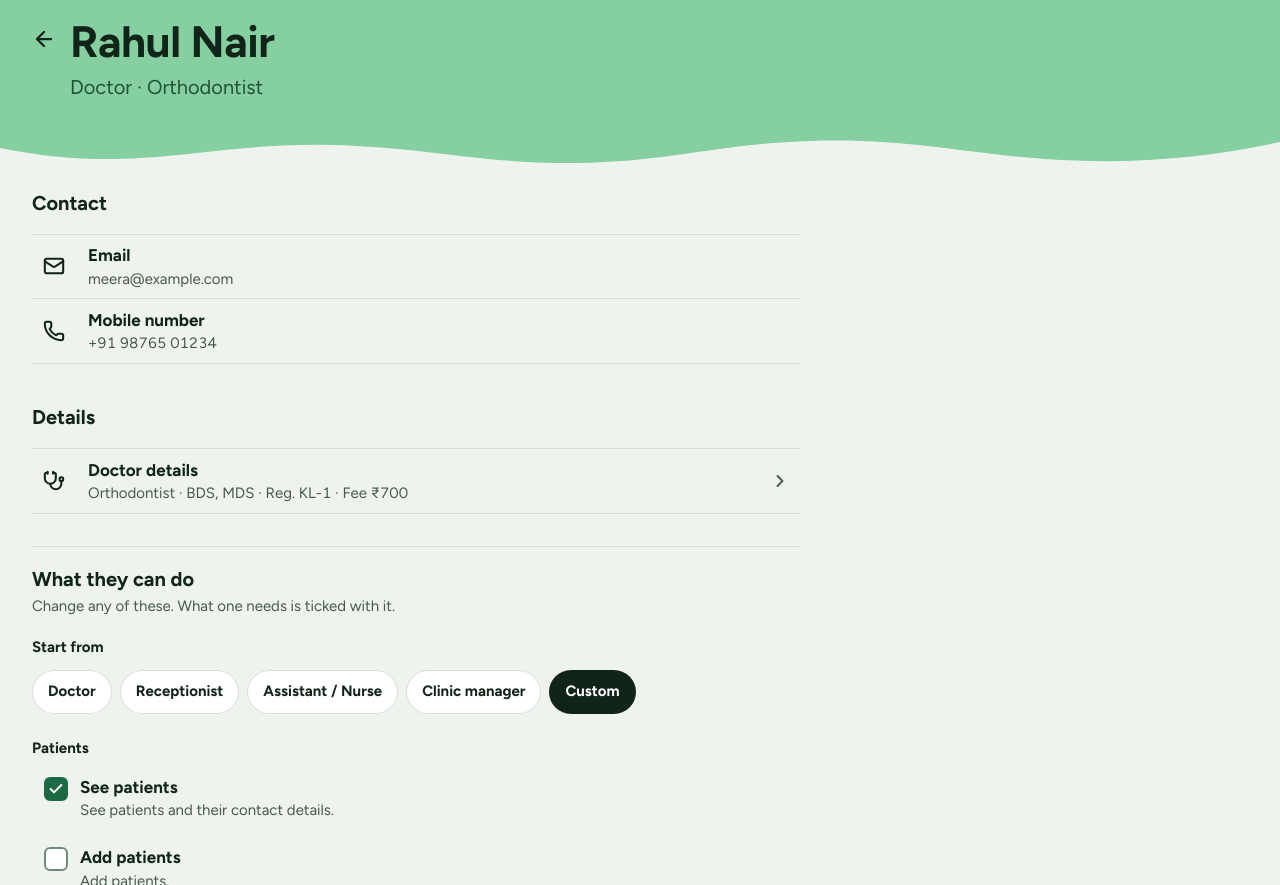
Scenario: Member (plan §8.6, D94) › says why access or a deactivation could not be saved
Click the checkbox labelled "Add patients".
click(56, 859)  # box [44,847,68,871]
(page scrolled)
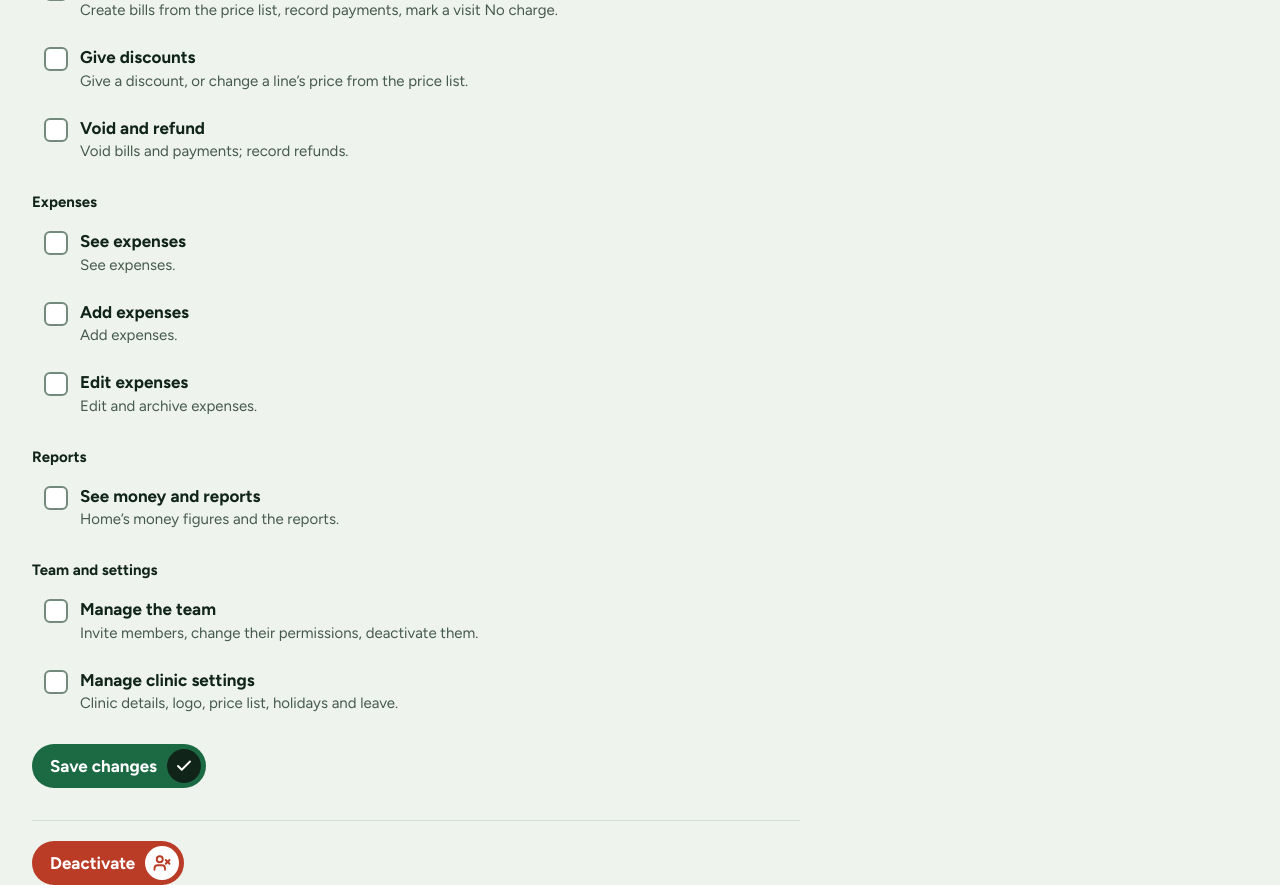
Click the button "Save changes".
click(119, 766)  # box [32,744,206,788]
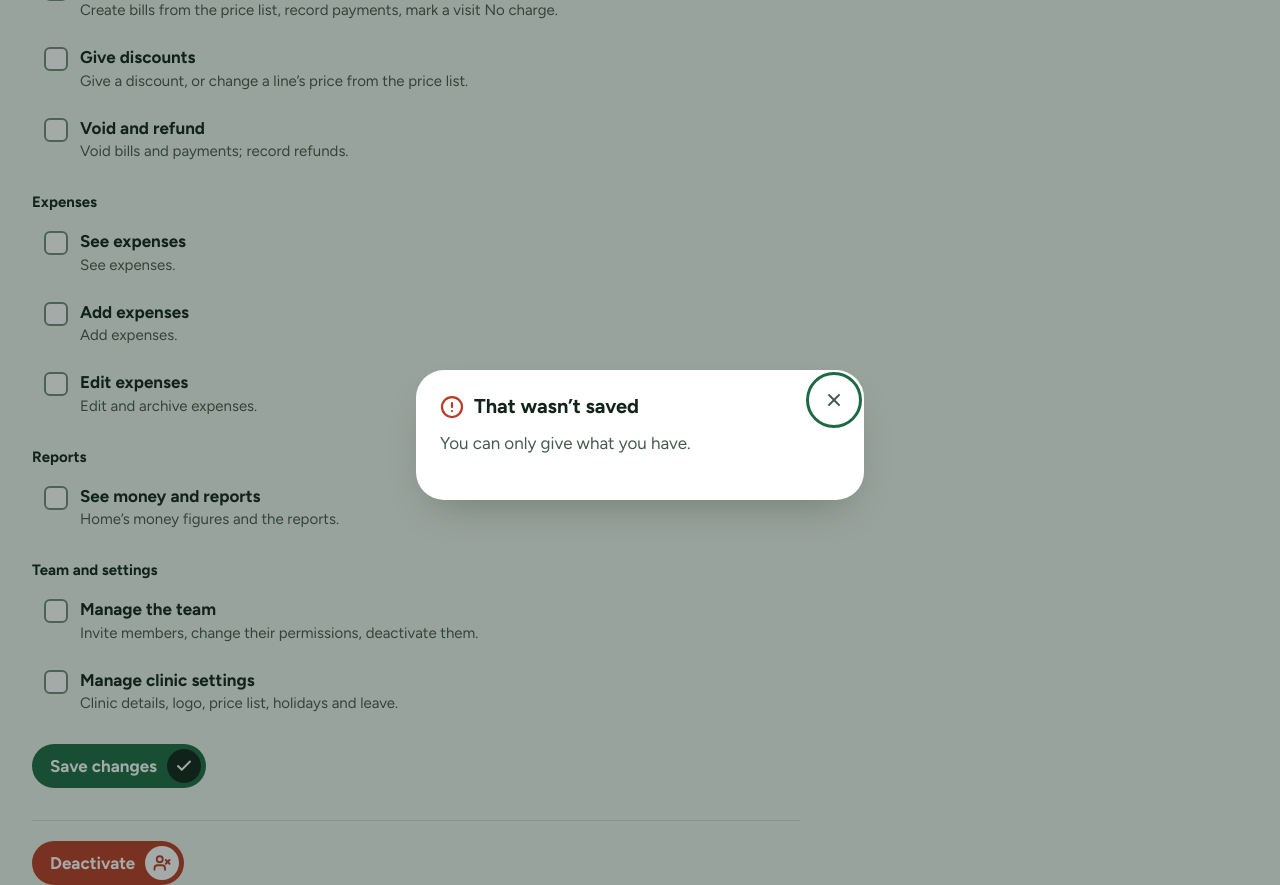
Check: the dialog "That wasn’t saved" shows "only give what you have", box [440,433,690,453]
Click the button named "Close".
click(834, 400)  # box [812,378,856,422]
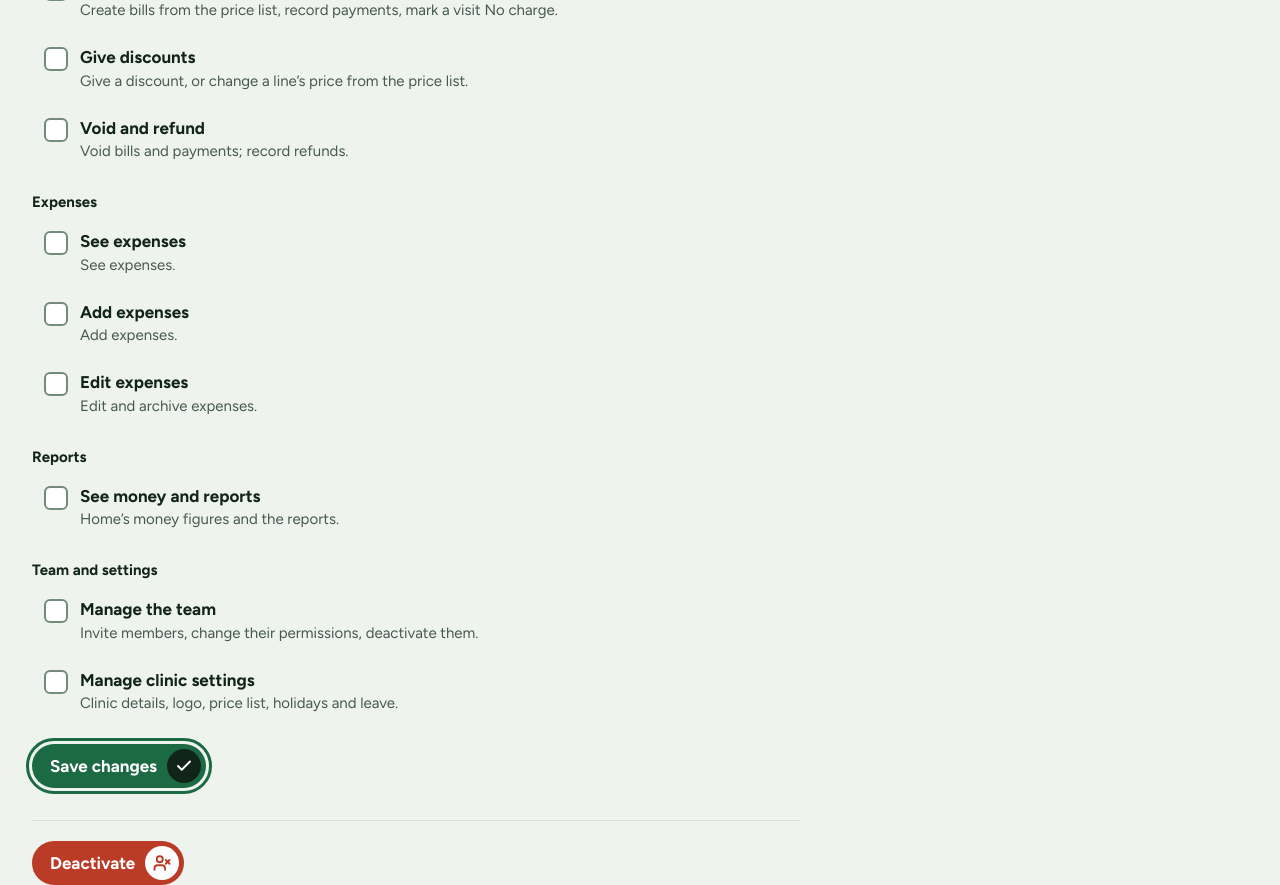
Click the button "Deactivate".
click(108, 863)  # box [32,841,184,884]
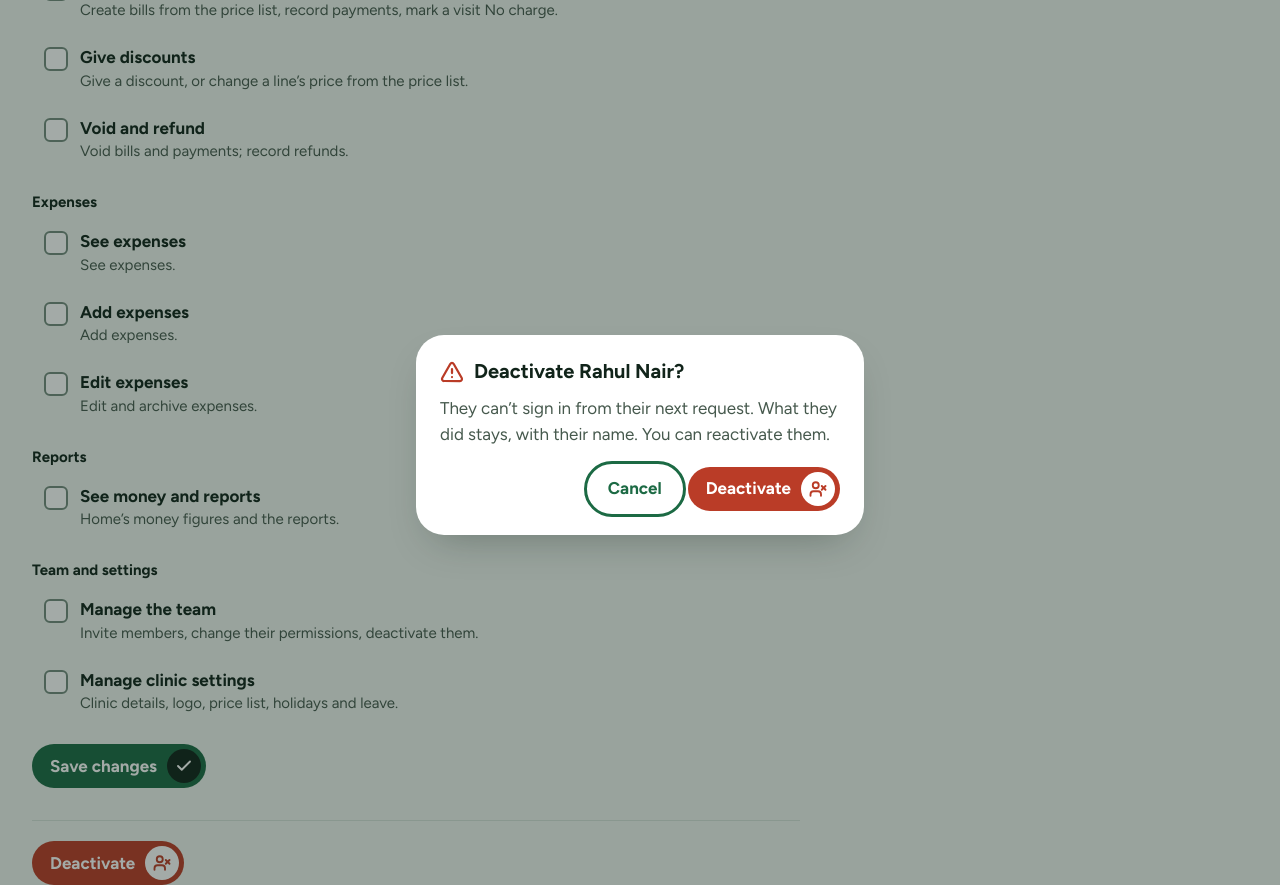
Click the button "Deactivate".
click(764, 489)  # box [688,467,840,511]
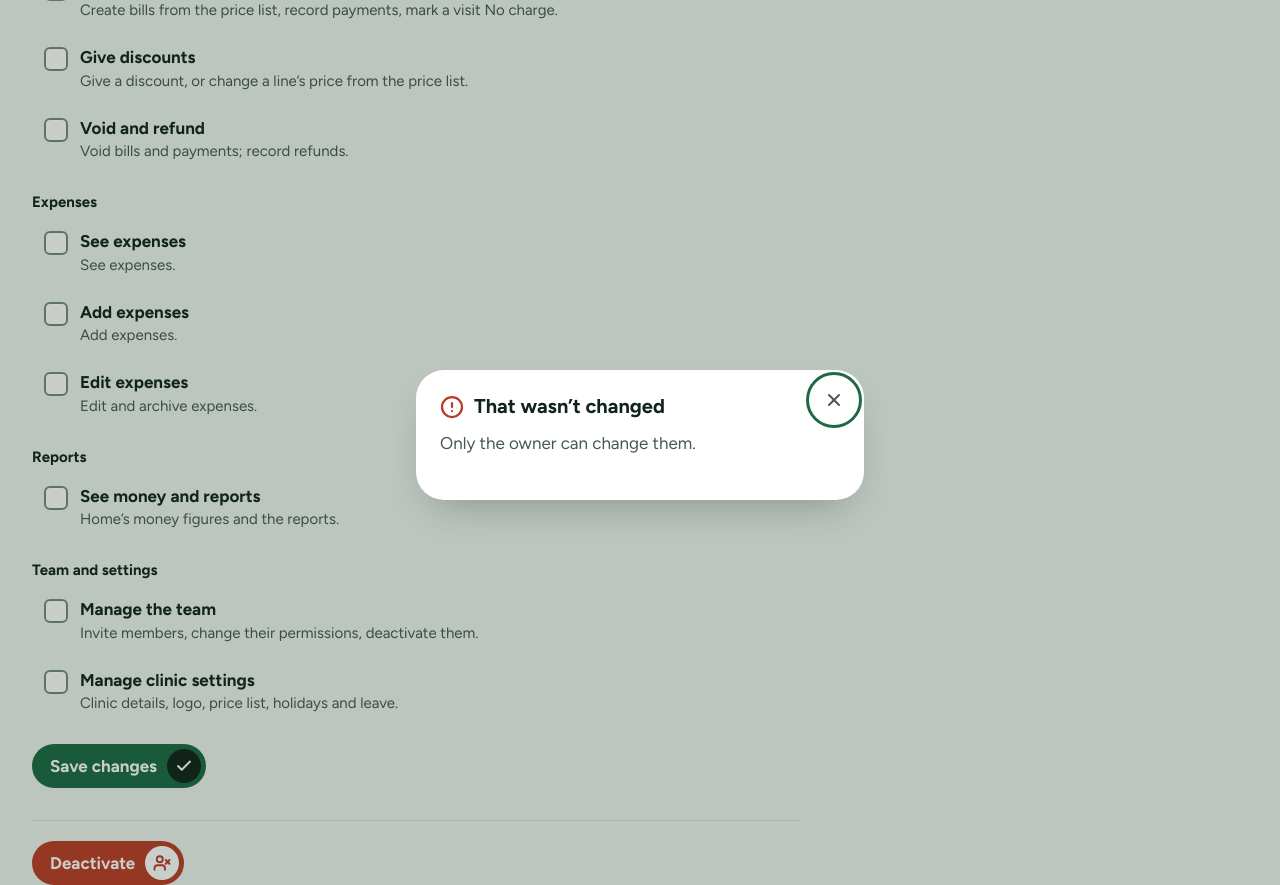
Check: the dialog "That wasn’t changed" shows "Only the owner", box [440,433,696,453]
